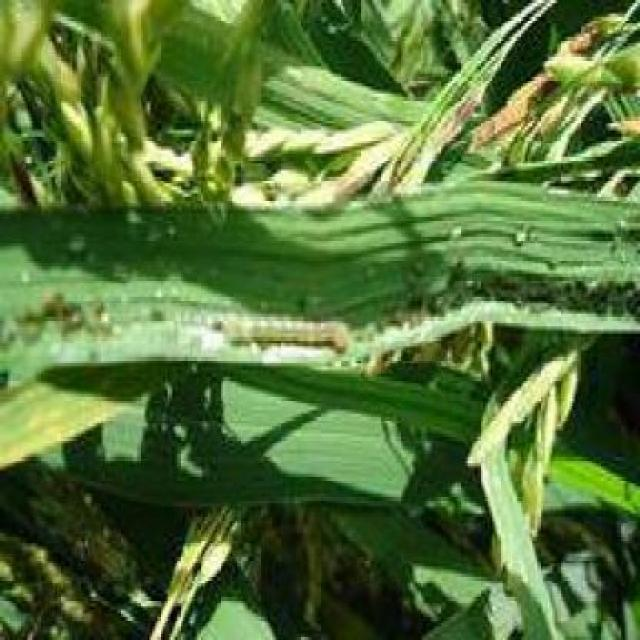leaf-folder: (223, 292, 369, 383)
